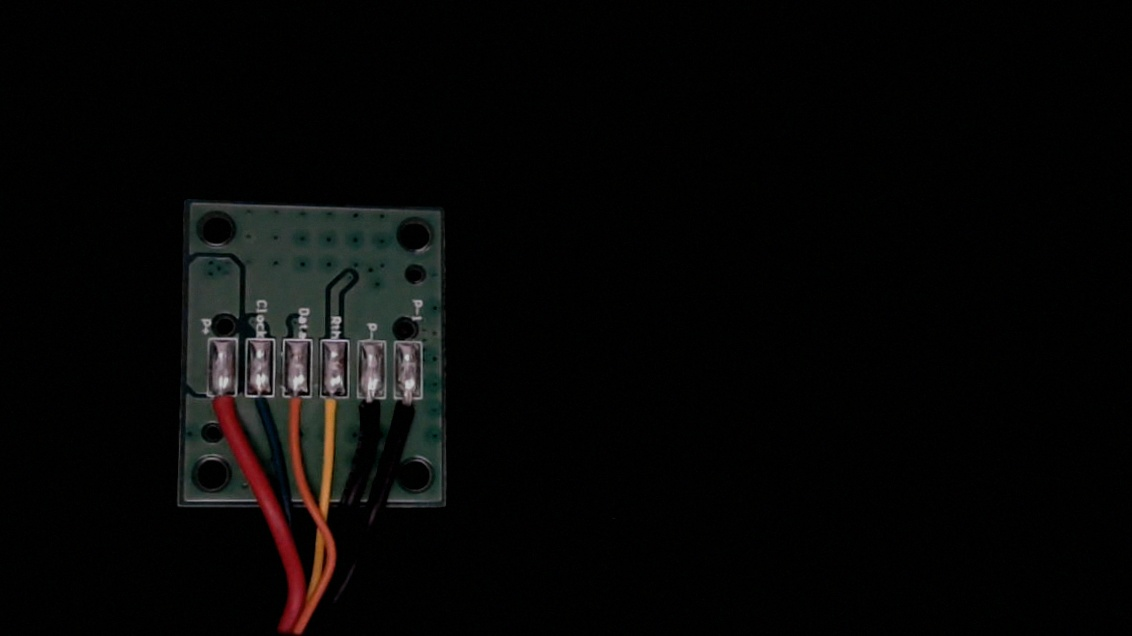Black: (355, 383, 386, 444)
Black1: (394, 381, 426, 443)
Green: (245, 377, 275, 434)
Orange: (281, 379, 312, 446)
Red: (206, 377, 237, 431)
Yellow: (318, 380, 351, 448)
